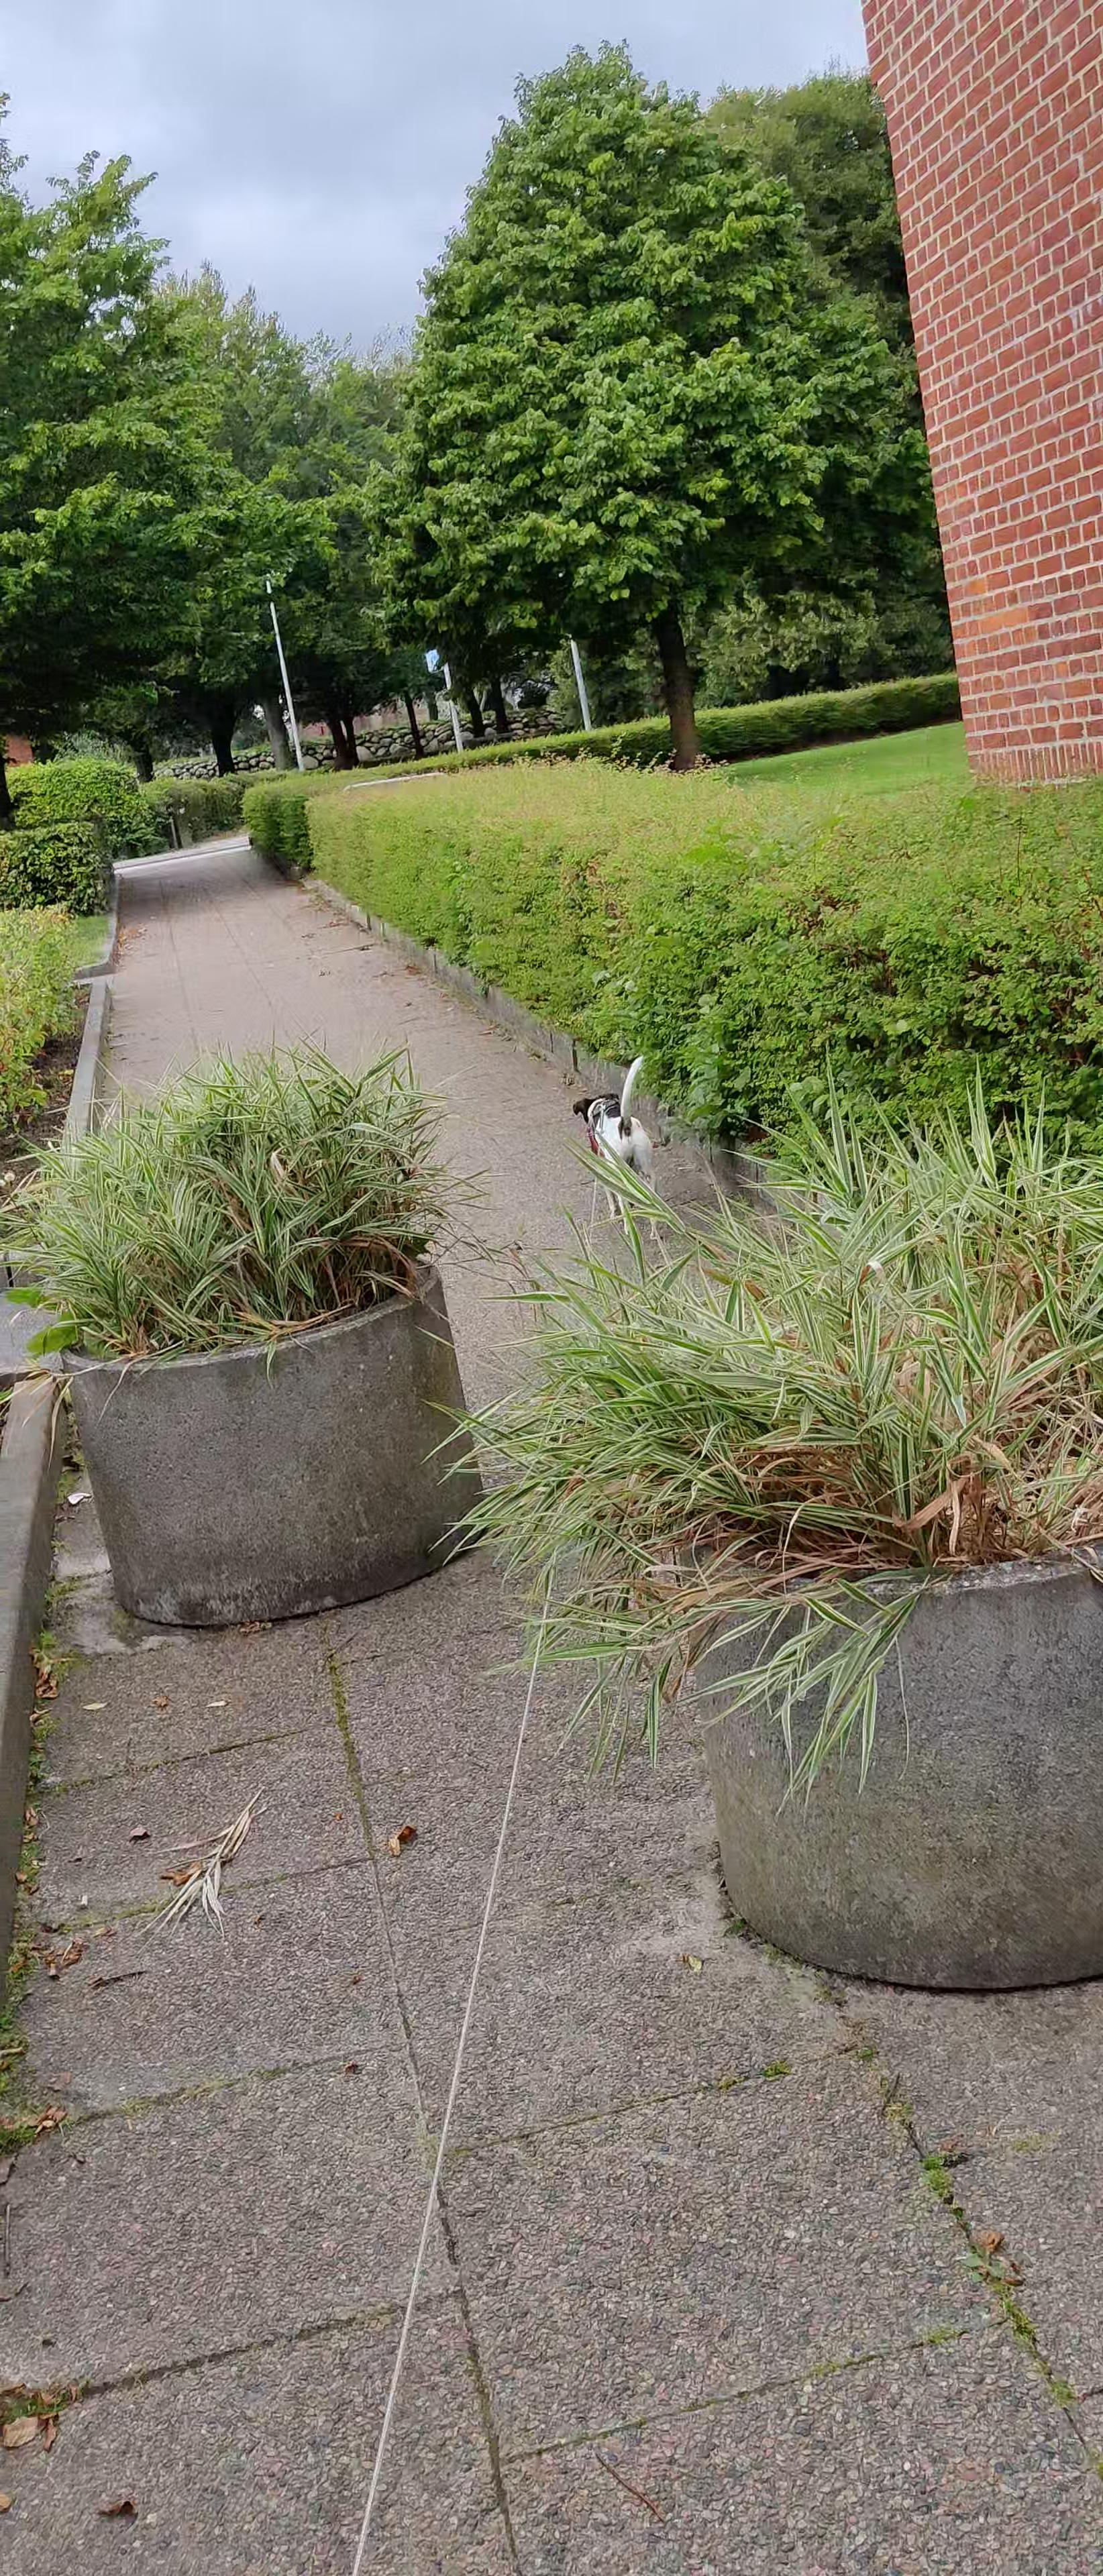Dog: (567, 1050, 667, 1240)
